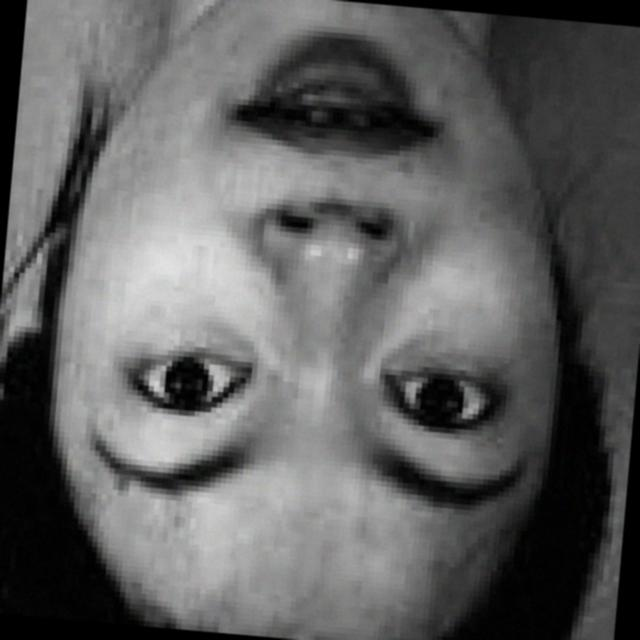surprise: (50, 0, 573, 628)
